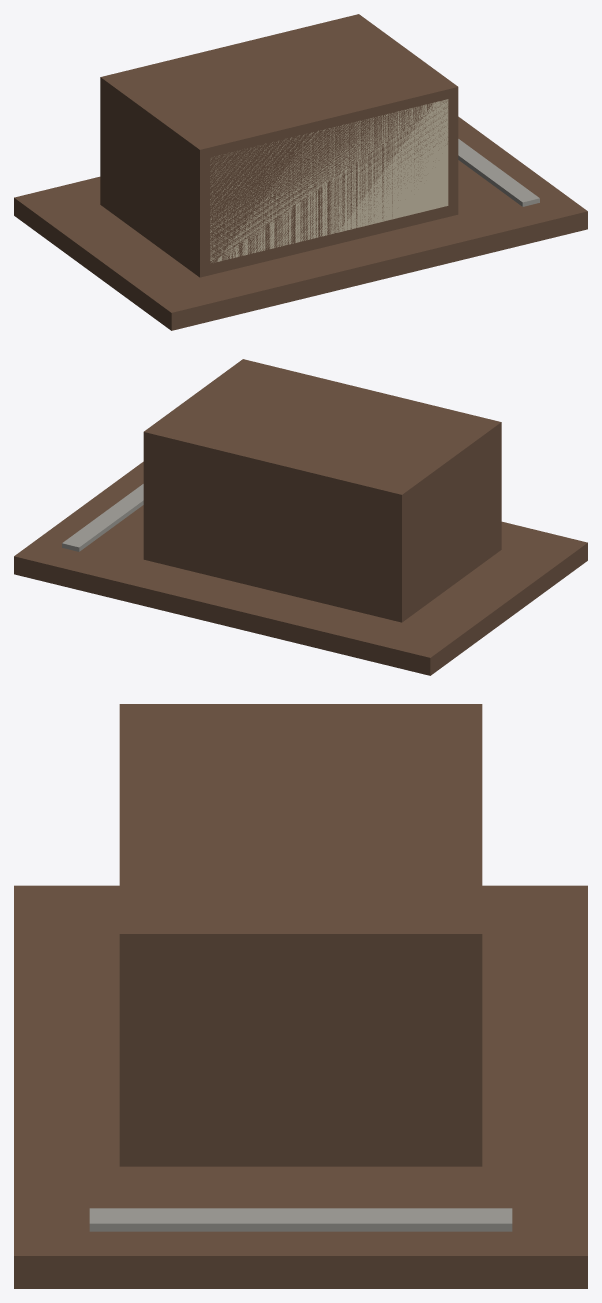
File: bread-board.glb
3 views of the same model, one above another, from view 1: azimuth 30°, elevation 25°; view 2: azimuth 150°, elevation 25°; view 3: azimuth 270°, elevation 25° (orthographic). The views are drawn at different scales.
Visible parts, largest first — view 1: wood, paper, brushed; view 2: wood, brushed; view 3: wood, brushed.
Part boxes in pixels (x1,y1,x2,y2): wood: (14,14,587,330); paper: (210,99,448,262); brushed: (458,139,539,206); wood: (14,359,587,675); brushed: (62,484,143,551); wood: (14,704,587,1288); brushed: (89,1208,512,1231).
Size of the model in its own units: 0.29 by 0.097 by 0.19.
